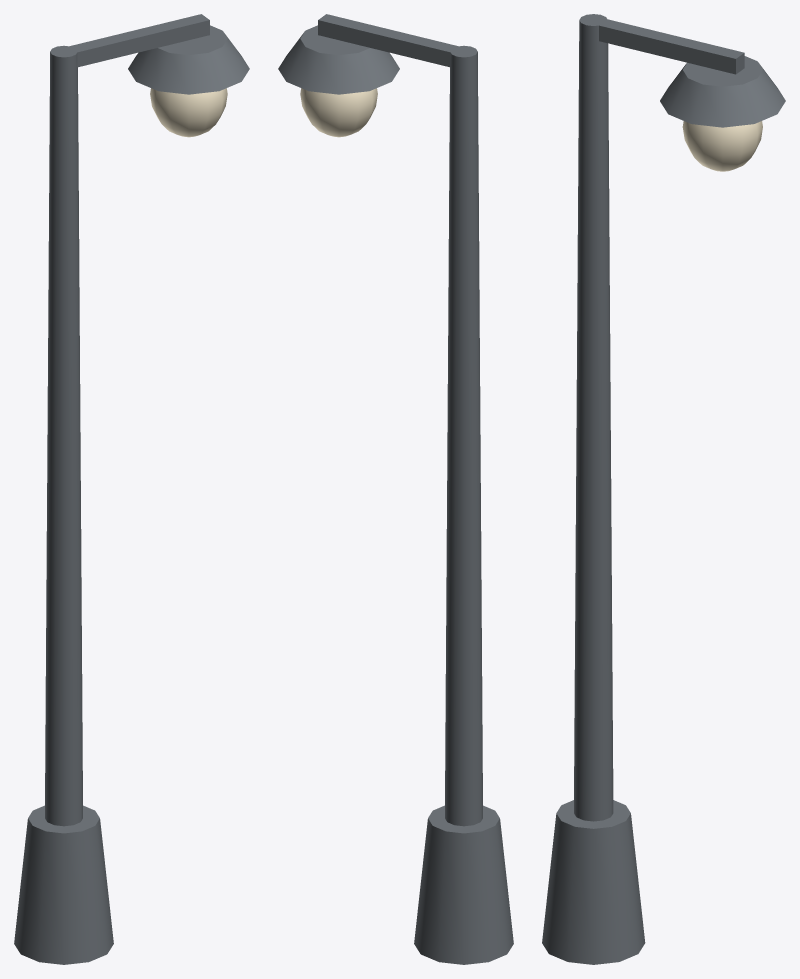
File: Prop_StreetLamp.fbx
3 renders of one model, left to right at view 1: azimuth 30°, elevation 25°; view 2: azimuth 150°, elevation 25°; view 3: azimuth 330°, elevation 25°, orthographic. The views are drawn at different scales.
Visible parts, largest first — view 1: Prop_StreetLamp; view 2: Prop_StreetLamp; view 3: Prop_StreetLamp.
Part boxes in pixels (box(x1,y1,x2,y2)): Prop_StreetLamp: box(14, 14, 249, 964); Prop_StreetLamp: box(278, 14, 513, 964); Prop_StreetLamp: box(542, 14, 785, 964).
Bounding box in the file's own units: 92 × 355 × 44.
